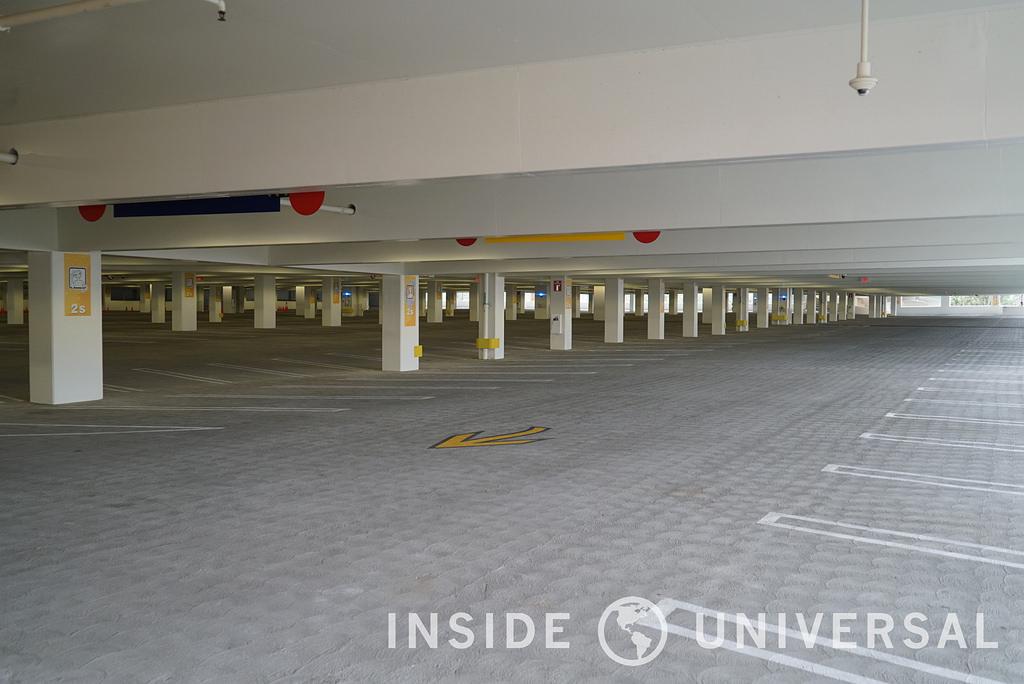empyt_space: (753, 444, 1024, 582), (824, 430, 1024, 493), (3, 402, 342, 430), (142, 351, 310, 391), (105, 358, 227, 397), (223, 347, 365, 380)
